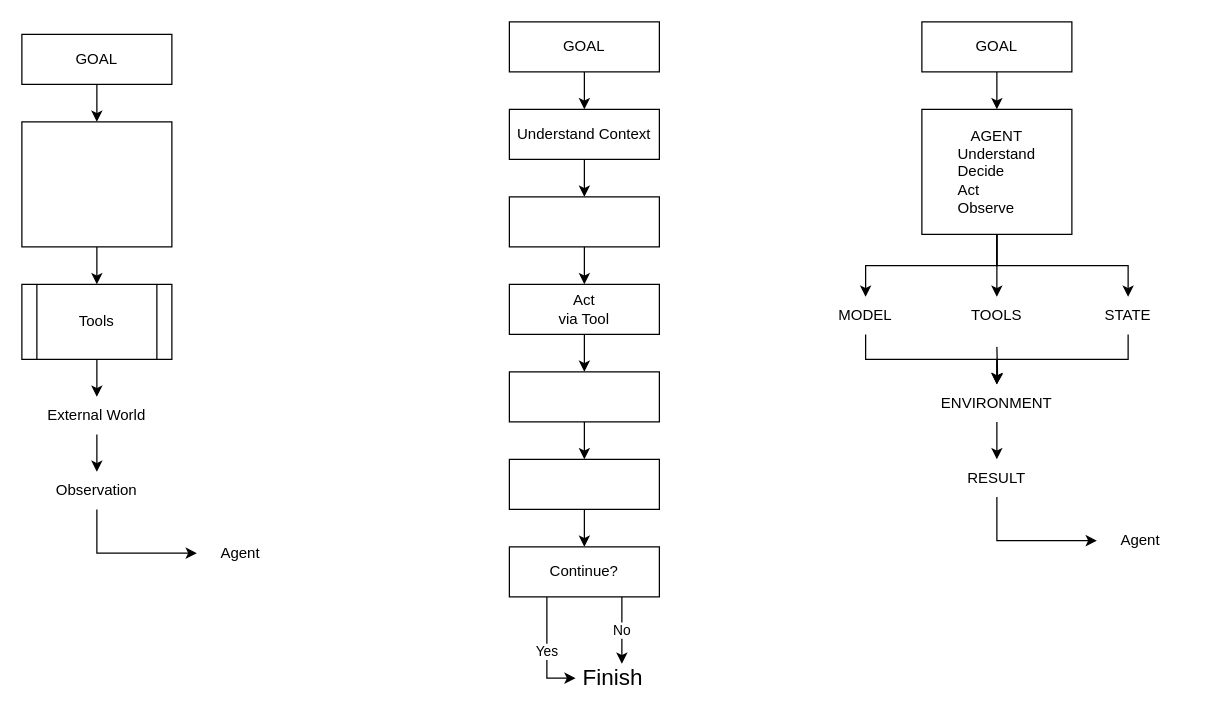
This 1206x719 diagram has some shape labels left out. Here are the shapes that lost their labels. From the top down, the centre of each, then its label:
pixel 96 184: AGENT Decide Plan Act Observe
pixel 583 221: Decide "What next?"
pixel 583 396: Observe Tool Result
pixel 583 483: Update State
